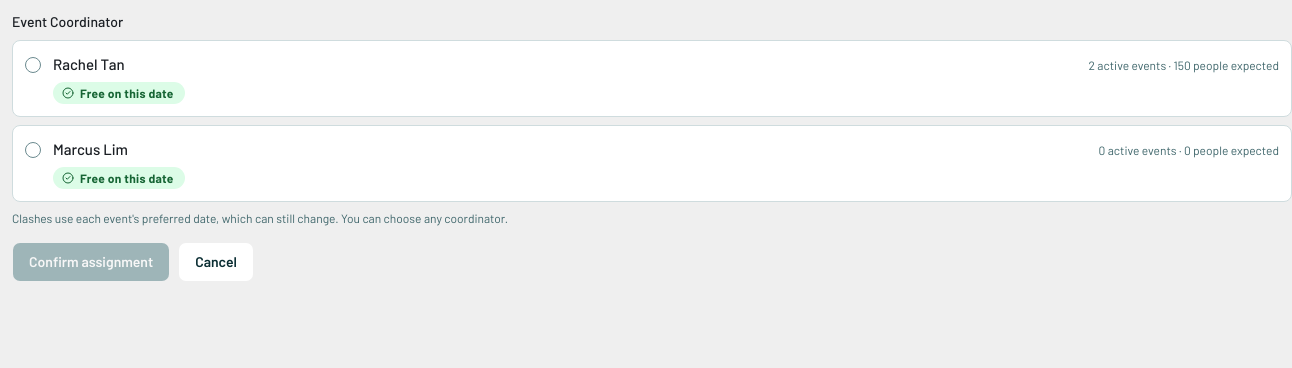
Test: SCRUM-78 — Assign an Event Coordinator › SCRUM-78/AC5 tells the Lead the event is already assigned when someone else got there first
Click the radio button named "Rachel Tan" next to "Rachel Tan" at (33, 65), box 25,57 -> 41,73
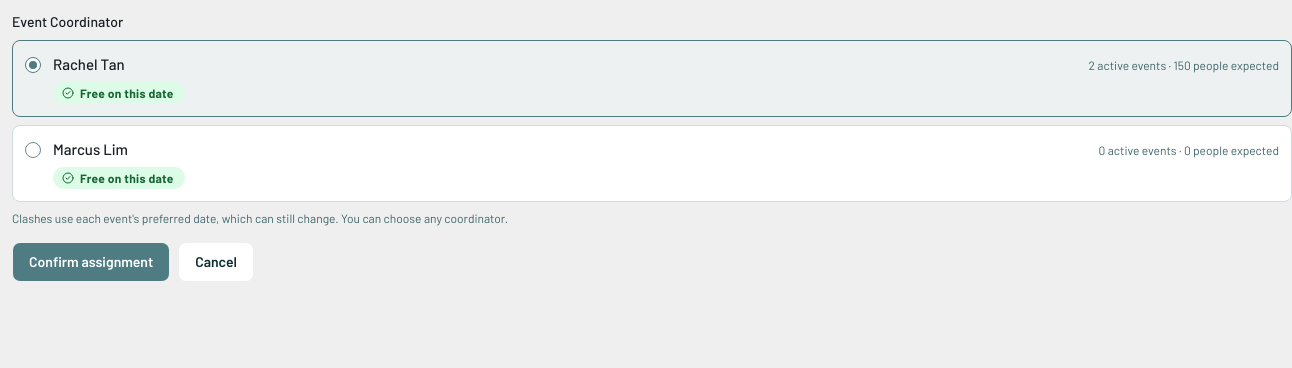
Click the button "Confirm assignment" at (91, 262), box 12,242 -> 170,282
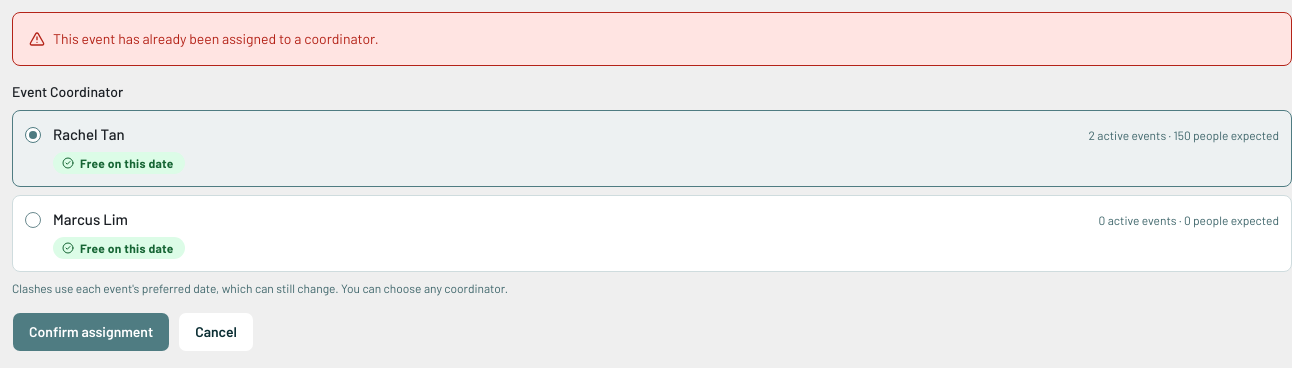
Result: the message reads "This event has already been assigned to a coordinator." at 53,30 -> 379,47
